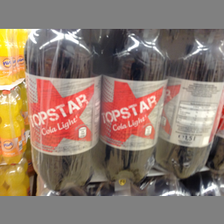soda: (24, 29, 103, 191), (100, 30, 169, 179), (157, 30, 224, 179)
